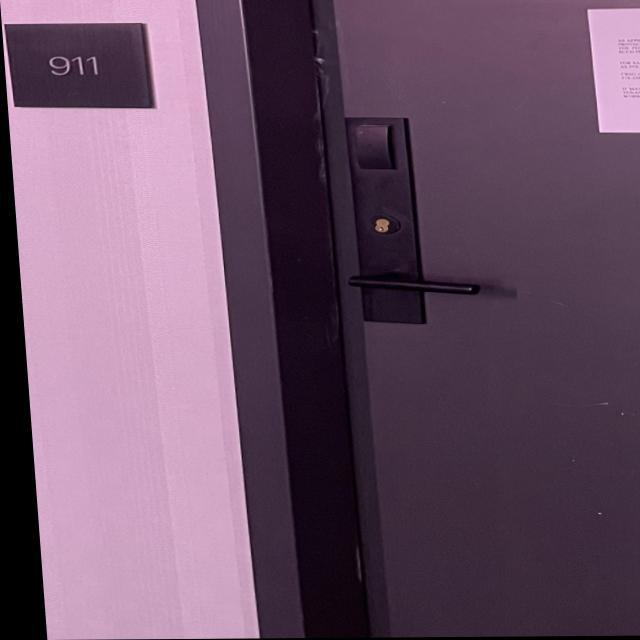door_handle: (314, 259, 501, 310)
